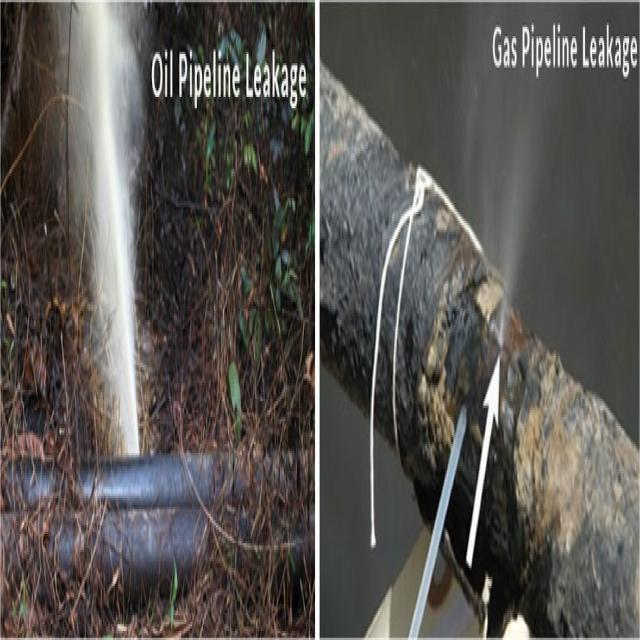leak: (38, 0, 149, 458), (471, 0, 588, 349), (124, 437, 125, 437)
